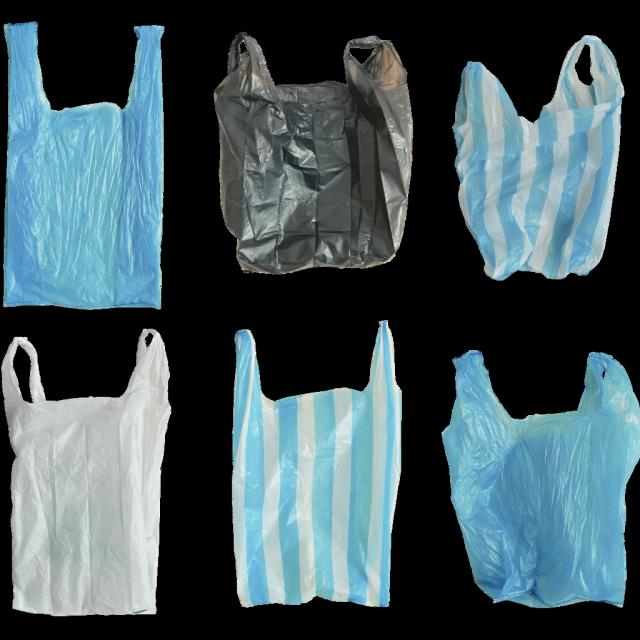Single-layer Plastic: (442, 351, 640, 608), (1, 330, 171, 616), (232, 321, 401, 606), (215, 32, 412, 273), (4, 22, 164, 309), (452, 36, 624, 279)
